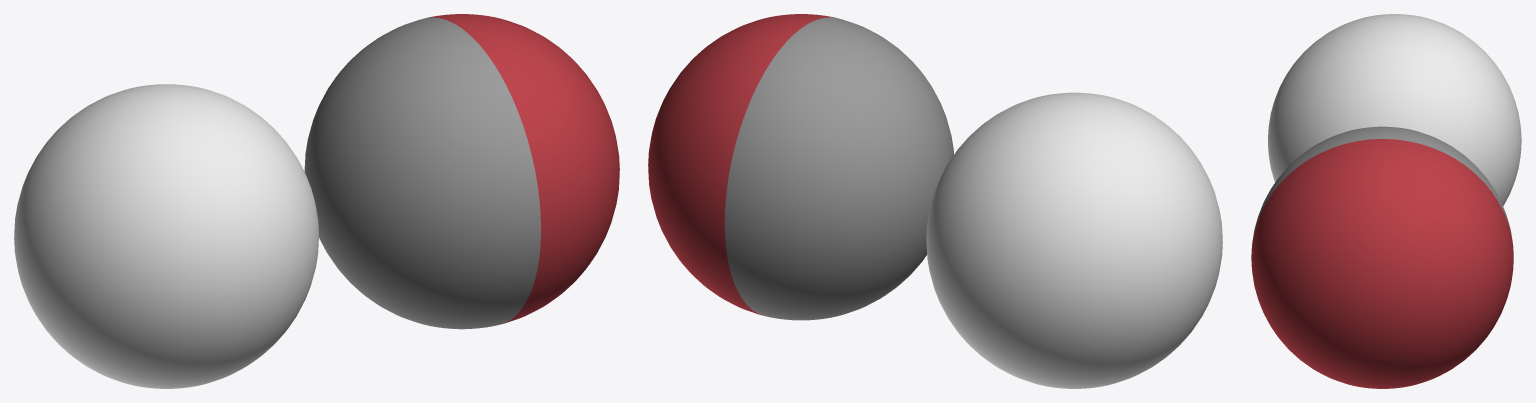
File: VRSphere.FBX
3 views of the same model, side by side, from view 1: azimuth 30°, elevation 25°; view 2: azimuth 150°, elevation 25°; view 3: azimuth 270°, elevation 25° (orthographic). The views are drawn at different scales.
Parts seen in each view (by area): view 1: VRSphere, VRSphere_Focus; view 2: VRSphere, VRSphere_Focus; view 3: VRSphere, VRSphere_Focus.
Boxes of the visible parts, <box> form: VRSphere: <box>304,14,619,329</box>; VRSphere_Focus: <box>14,84,318,388</box>; VRSphere: <box>648,14,953,320</box>; VRSphere_Focus: <box>926,92,1222,388</box>; VRSphere: <box>1251,126,1513,388</box>; VRSphere_Focus: <box>1268,14,1521,205</box>.
Bounding box in the file's own units: 905 × 444 × 457.
